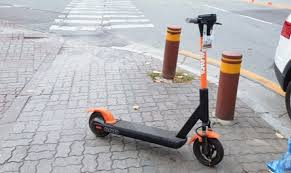kick_board: (89, 14, 222, 166)
kick_body: (115, 122, 178, 144)
kick_handler: (185, 13, 222, 34)
kick_neck: (200, 38, 208, 119)
kick_wheel: (193, 136, 223, 166), (89, 110, 109, 138)
